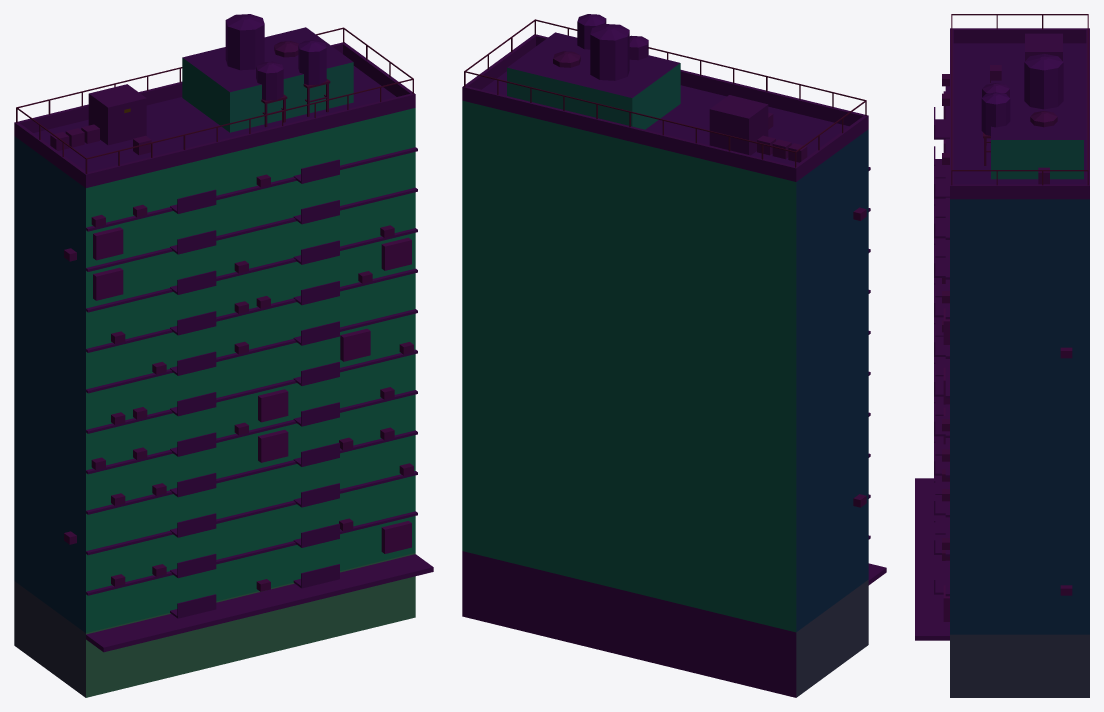
File: slab_f.glb
3 renders of one model, left to right at view 1: azimuth 30°, elevation 25°; view 2: azimuth 150°, elevation 25°; view 3: azimuth 270°, elevation 25°, orthographic. The views are drawn at different scales.
Visible parts, largest first — view 1: slab_f; view 2: slab_f; view 3: slab_f.
Part boxes in pixels (x1,y1,x2,y2): slab_f: (14, 14, 433, 697); slab_f: (462, 14, 886, 697); slab_f: (915, 14, 1089, 697).
Size of the model in its own units: 26.7 by 44.05 by 12.
